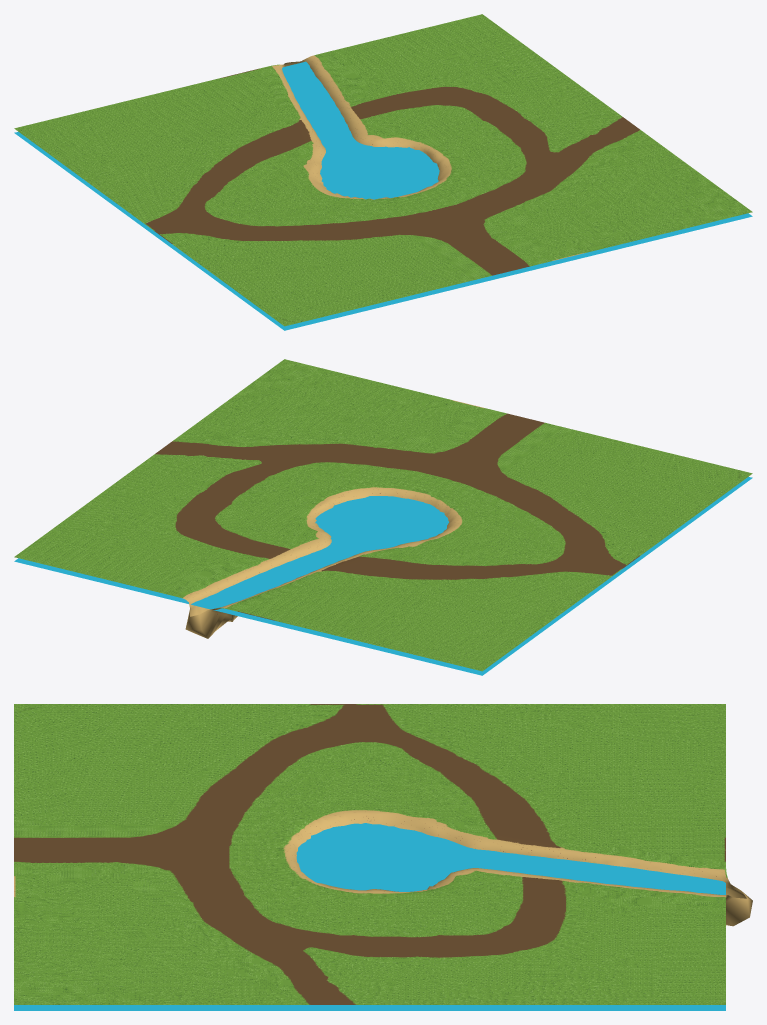
Rendered from map_water.fbx.
3 views of the same model, one above another, from view 1: azimuth 30°, elevation 25°; view 2: azimuth 150°, elevation 25°; view 3: azimuth 270°, elevation 25° (orthographic). The views are drawn at different scales.
Parts seen in each view (by area): view 1: map, water; view 2: map, water; view 3: map, water.
Boxes of the visible parts, left/top/right/bottom form: map: left=14, top=14, right=752, bottom=326; water: left=14, top=61, right=752, bottom=330; map: left=14, top=359, right=752, bottom=671; water: left=14, top=477, right=752, bottom=675; map: left=14, top=704, right=752, bottom=1004; water: left=14, top=823, right=725, bottom=1010.
Size of the model in its own units: 30000 by 2676 by 31134.
